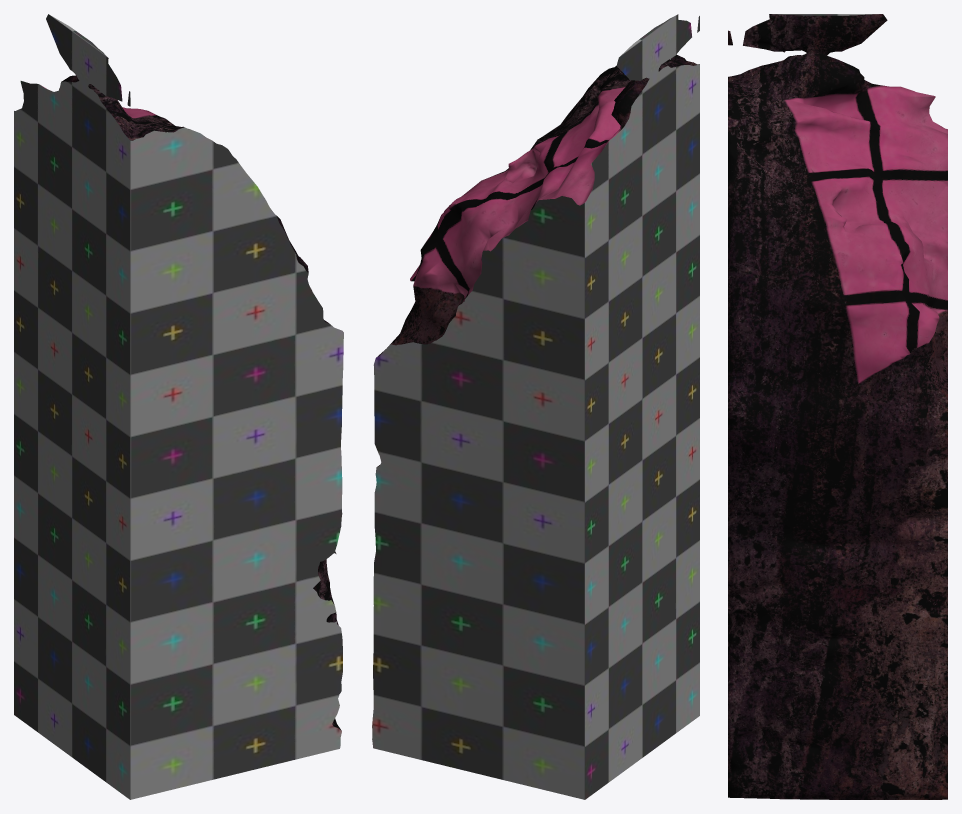
Rendered from wall03.glb.
3 views of the same model, side by side, from view 1: azimuth 30°, elevation 25°; view 2: azimuth 150°, elevation 25°; view 3: azimuth 270°, elevation 25° (orthographic). The views are drawn at different scales.
Parts seen in each view (by area): view 1: Wall.003; view 2: Wall.003; view 3: Wall.003.
Boxes of the visible parts, x1,y1,x2,y2 form: Wall.003: (14,14,343,799); Wall.003: (372,14,699,799); Wall.003: (728,14,947,799).
Size of the model in its own units: 0.5032 by 1.61 by 0.4679.
2 materials, 2 textured.
